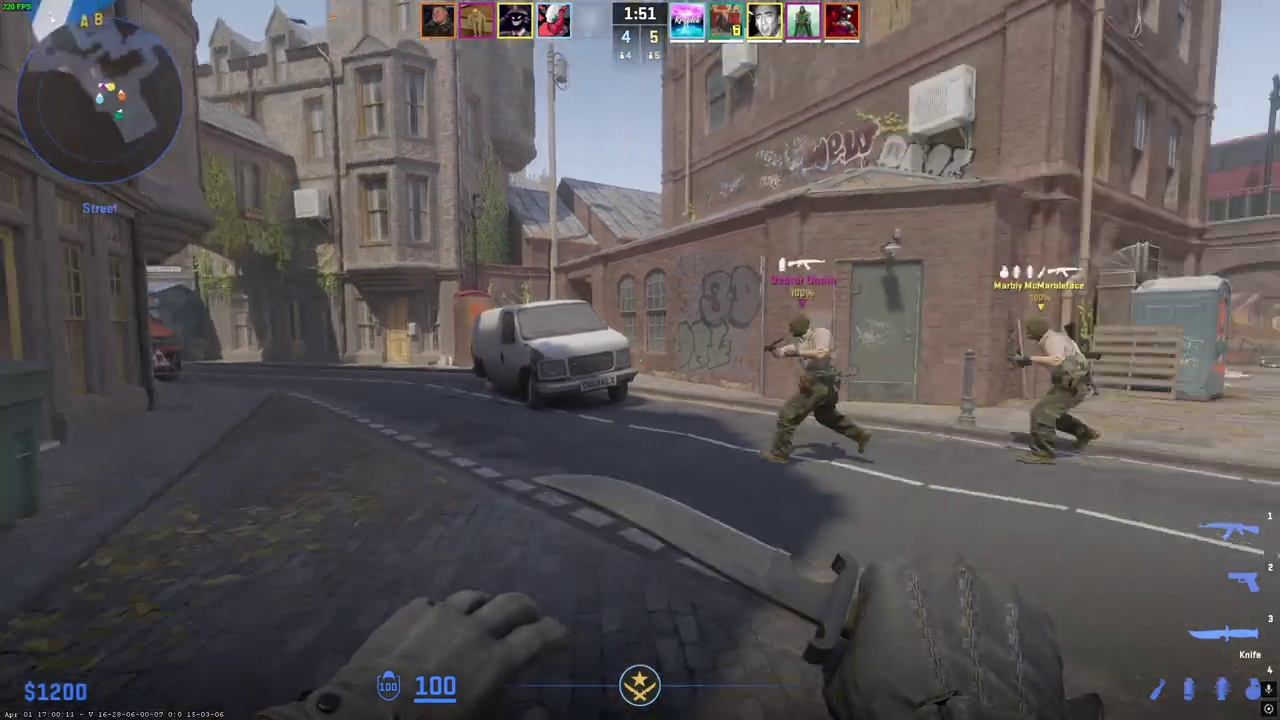Terrorist: (768, 313, 863, 463), (1017, 317, 1099, 463)
